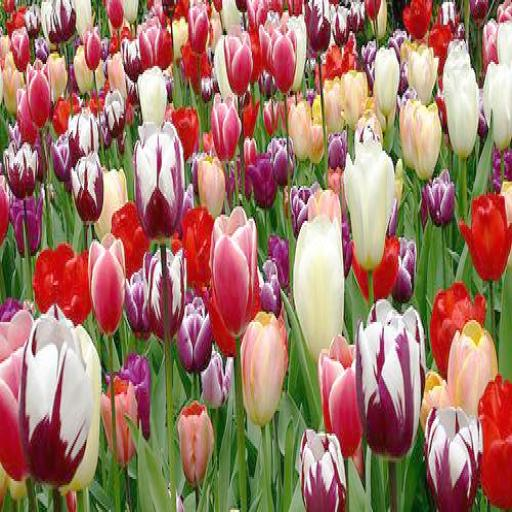tulip: (18, 308, 87, 489), (357, 300, 425, 456), (294, 217, 346, 359), (345, 142, 392, 268), (318, 332, 362, 460), (211, 208, 256, 332), (133, 124, 182, 237), (424, 407, 479, 506), (448, 322, 498, 421), (240, 312, 284, 423), (478, 376, 512, 510), (461, 192, 512, 279), (298, 429, 347, 512), (88, 236, 124, 332), (444, 70, 480, 155), (178, 403, 213, 483), (178, 299, 210, 374), (224, 23, 253, 93), (210, 89, 239, 159), (72, 155, 103, 219), (268, 22, 297, 88), (4, 143, 39, 196), (424, 167, 453, 229), (249, 153, 279, 208), (375, 46, 398, 114), (27, 60, 50, 126), (339, 72, 367, 120), (187, 2, 208, 54), (84, 23, 101, 70)
